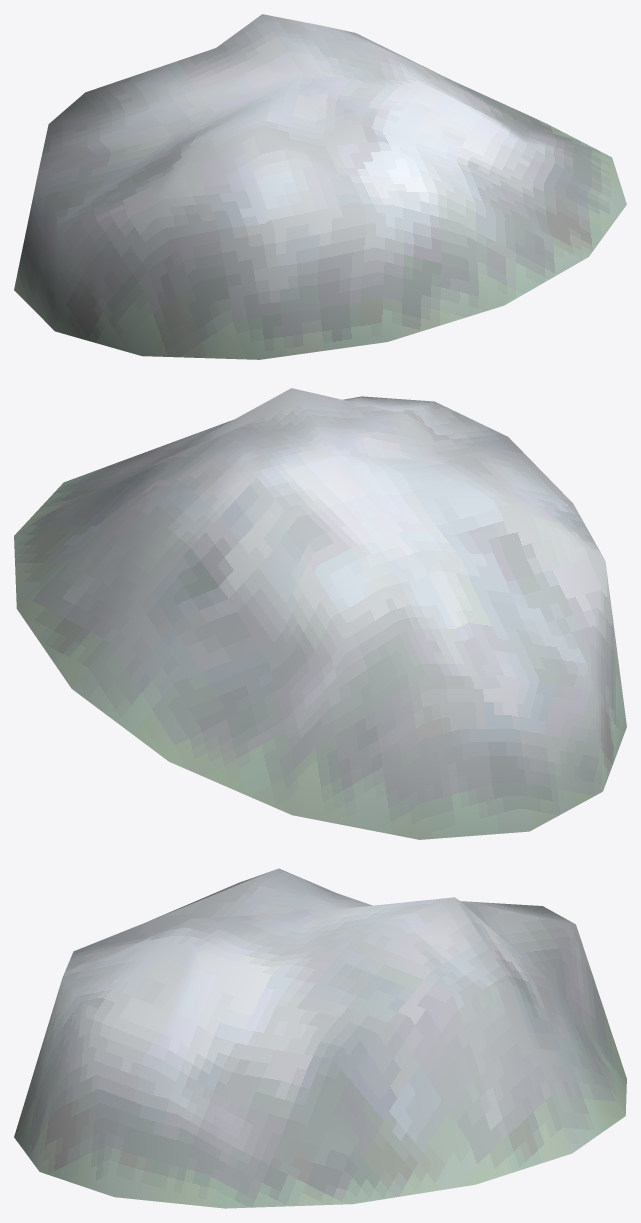
The model's file is TROLLHOLE02_STONEA23.fbx.
The picture shows the model from 3 angles, top to bottom: view 1: azimuth 30°, elevation 25°; view 2: azimuth 150°, elevation 25°; view 3: azimuth 270°, elevation 25°; orthographic projection. The views are drawn at different scales.
Visible parts, largest first — view 1: TROLLHOLE02_STONEA23; view 2: TROLLHOLE02_STONEA23; view 3: TROLLHOLE02_STONEA23.
Boxes of the visible parts, x1,y1,x2,y2 form: TROLLHOLE02_STONEA23: (14, 14, 626, 359); TROLLHOLE02_STONEA23: (14, 388, 626, 839); TROLLHOLE02_STONEA23: (14, 868, 626, 1208).
Bounding box in the file's own units: 12467 × 5413 × 10993.
1 material, 1 textured.
